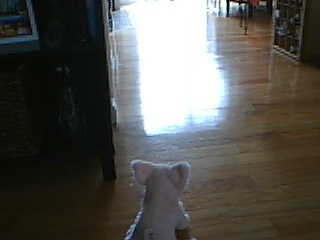piggy: (122, 158, 193, 240)
